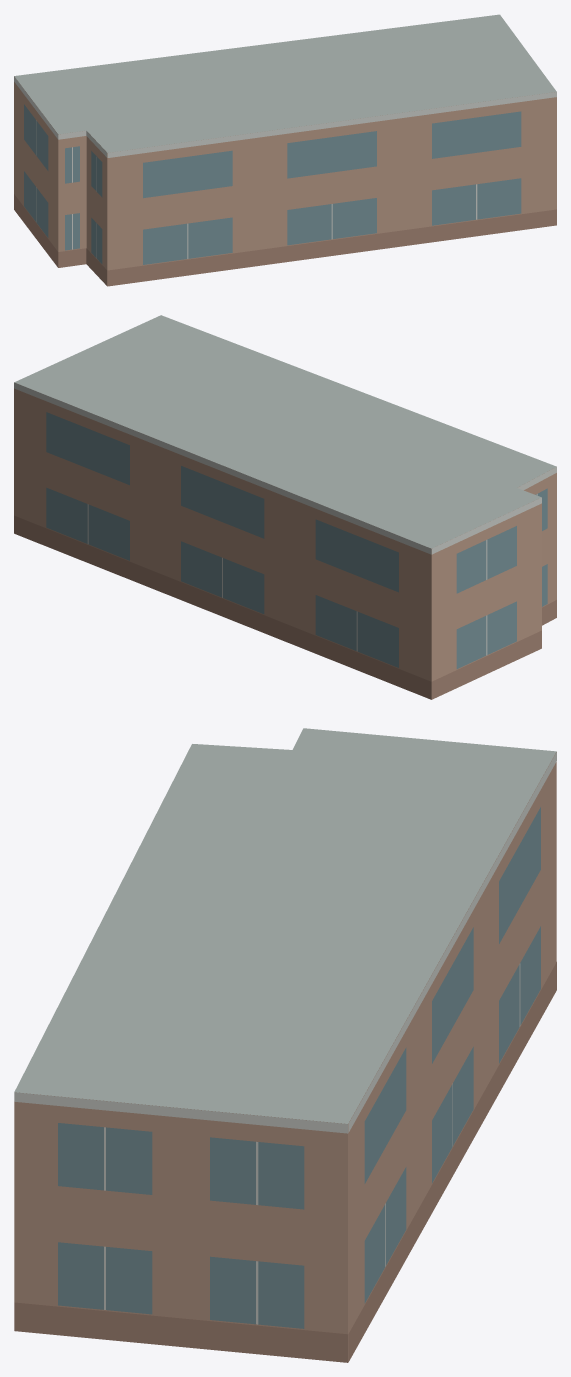
The model's file is survey-upis-32532291.glb.
3 renders of one model, top to bottom at view 1: azimuth 30°, elevation 25°; view 2: azimuth 150°, elevation 25°; view 3: azimuth 270°, elevation 25°, orthographic. The views are drawn at different scales.
Parts seen in each view (by area): view 1: survey-upis-32532291.tmp; view 2: survey-upis-32532291.tmp; view 3: survey-upis-32532291.tmp.
Boxes of the visible parts, box(x1,y1,x2,y2) form: survey-upis-32532291.tmp: box(14, 14, 556, 286); survey-upis-32532291.tmp: box(14, 315, 556, 699); survey-upis-32532291.tmp: box(14, 728, 556, 1362).
Bounding box in the file's own units: 21.71 × 6.1 × 12.57.
